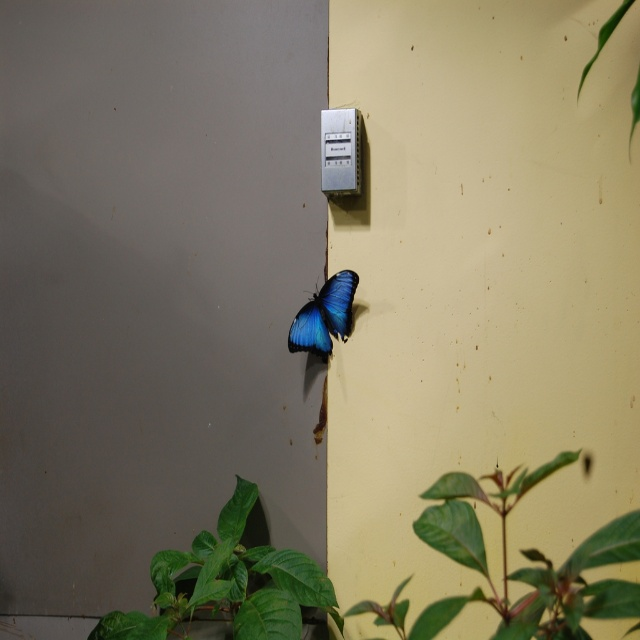Butterfly: (289, 268, 360, 355)
